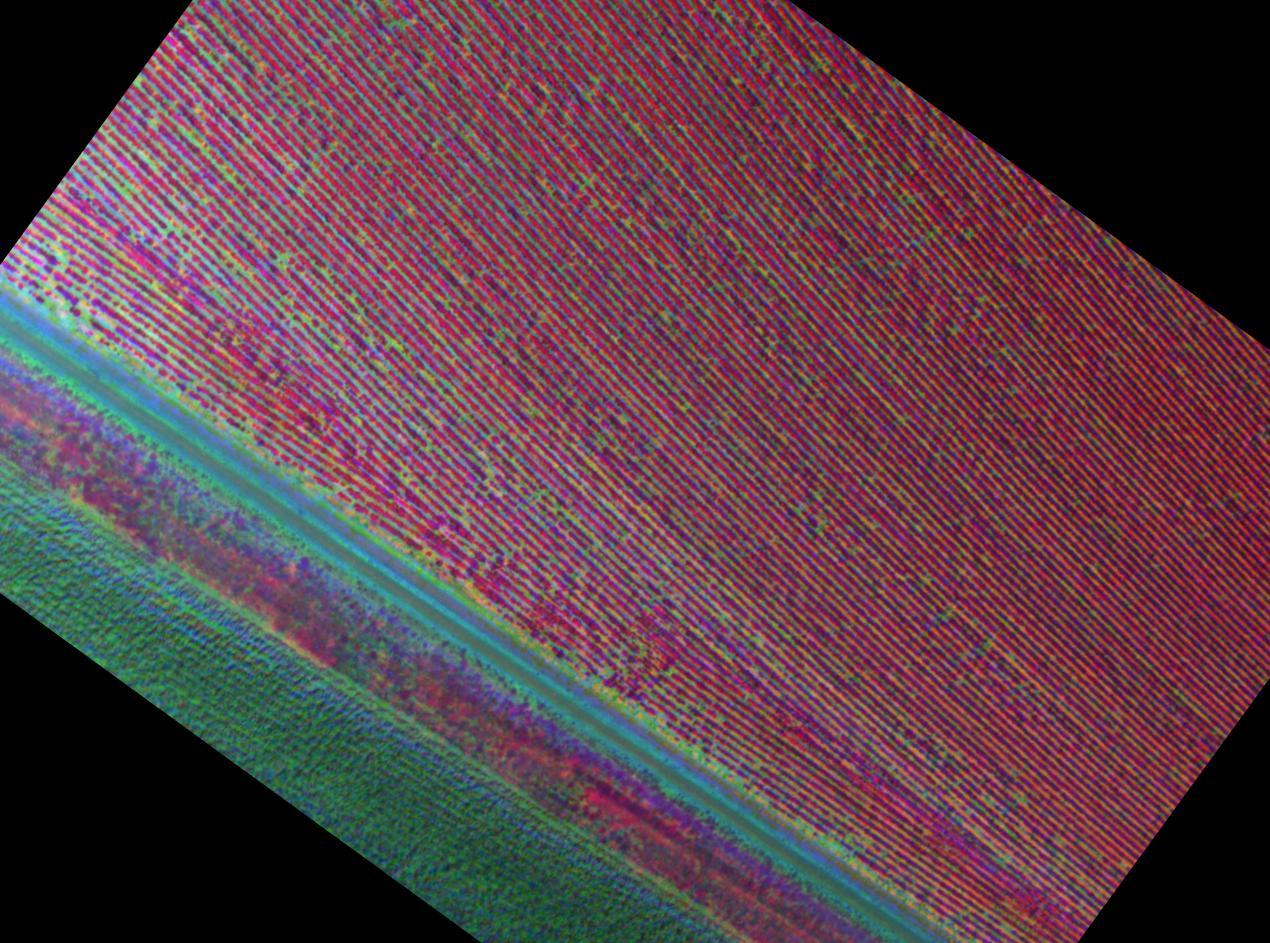dc: (67, 318, 74, 325), (403, 20, 408, 24), (719, 766, 723, 771), (607, 670, 611, 674), (168, 226, 172, 229)
